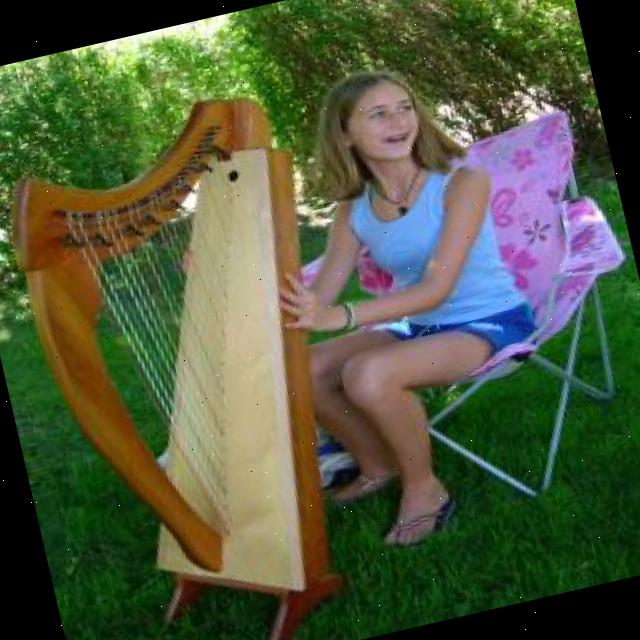harp: (0, 81, 405, 640)
